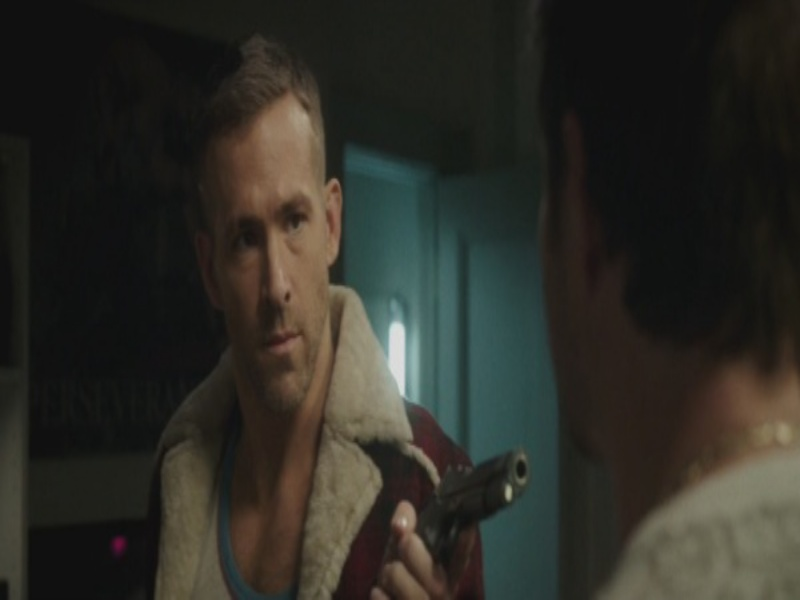person: (141, 43, 495, 593), (528, 1, 796, 594)
weapon: (406, 449, 526, 572)
